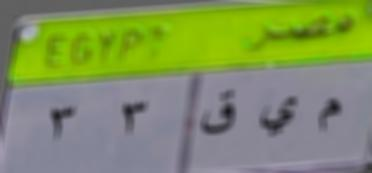3: (37, 95, 82, 150), (114, 94, 155, 142)
meem: (314, 92, 344, 142)
qaaf: (192, 82, 240, 144)
yaa: (258, 91, 301, 140)
